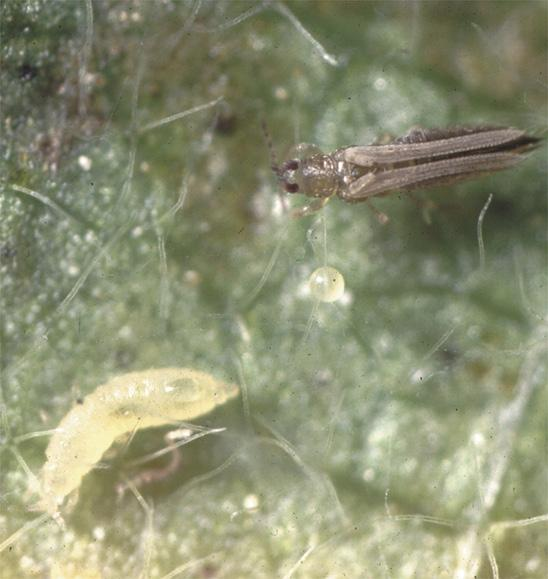Thrips: (27, 345, 252, 532), (259, 118, 542, 210)
